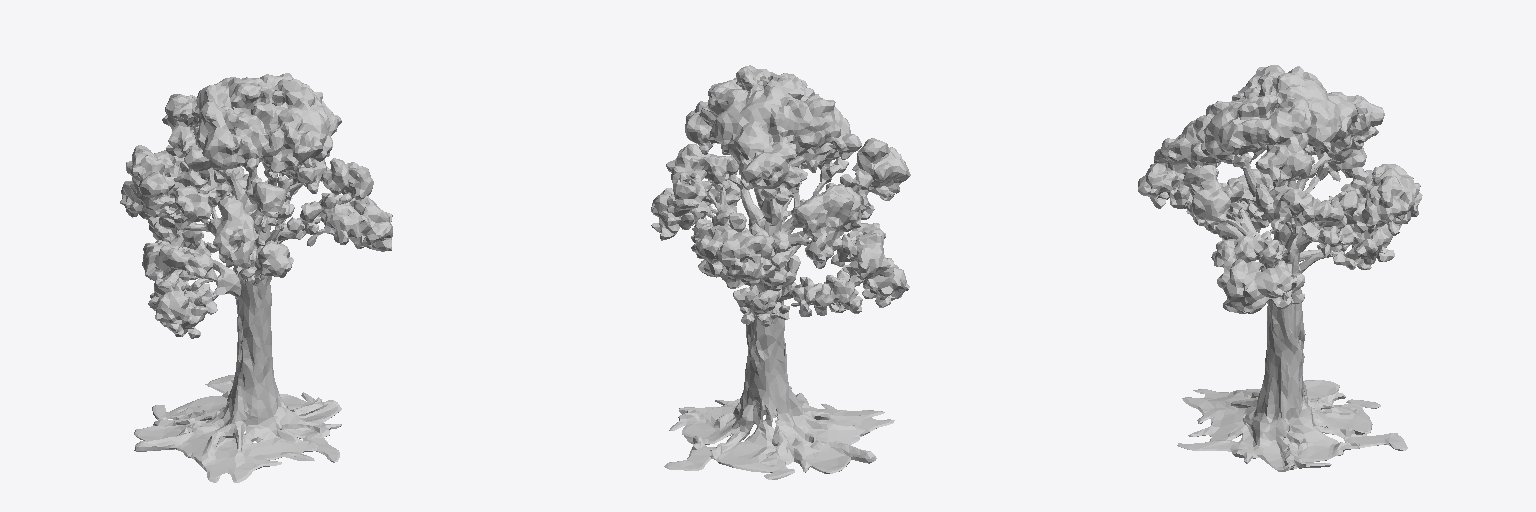
Rendered from RobleReach.obj.
The picture shows the model from 3 angles: view 1: azimuth 30°, elevation 25°; view 2: azimuth 150°, elevation 25°; view 3: azimuth 270°, elevation 25°; orthographic projection.
Parts seen in each view (by area): view 1: Mesh_0; view 2: Mesh_0; view 3: Mesh_0.
Boxes of the visible parts, x1=… form: Mesh_0: x1=120, y1=73, x2=392, y2=482; Mesh_0: x1=651, y1=65, x2=910, y2=479; Mesh_0: x1=1138, y1=65, x2=1422, y2=471.
Bounding box in the file's own units: 1.42 × 1.99 × 1.45.